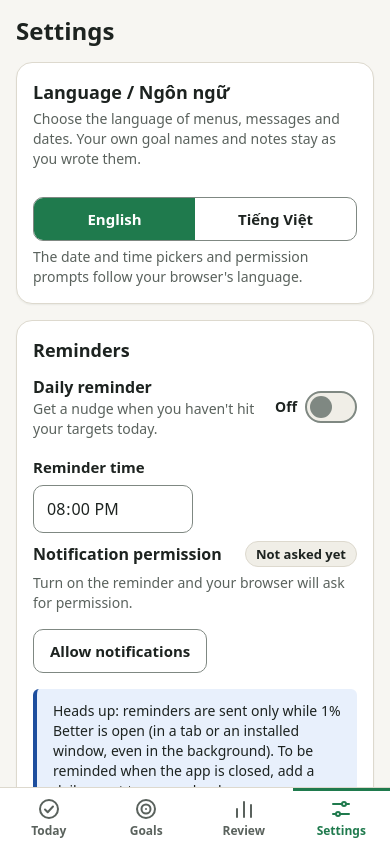
Test: Settings — Reminders card (M2-AC6, M2-AC11, M2-AC13) › "Allow notifications" asks for permission; a denied answer shows the blocked state
Click the button "Allow notifications".
click(120, 651)  # box [33,629,207,673]
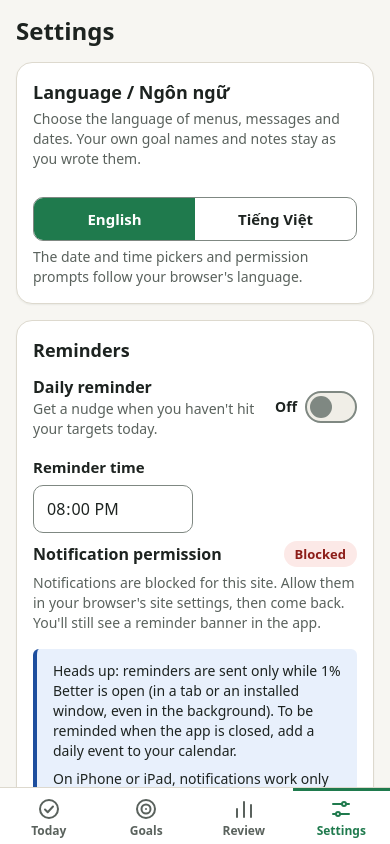
Expected: the text "Blocked" is shown, [284,541,357,567]
Expected: the text "Notifications are blocked for this site. Allow them in your browser's site settings, then come back. You'll still see a " is shown, [33,573,355,632]
